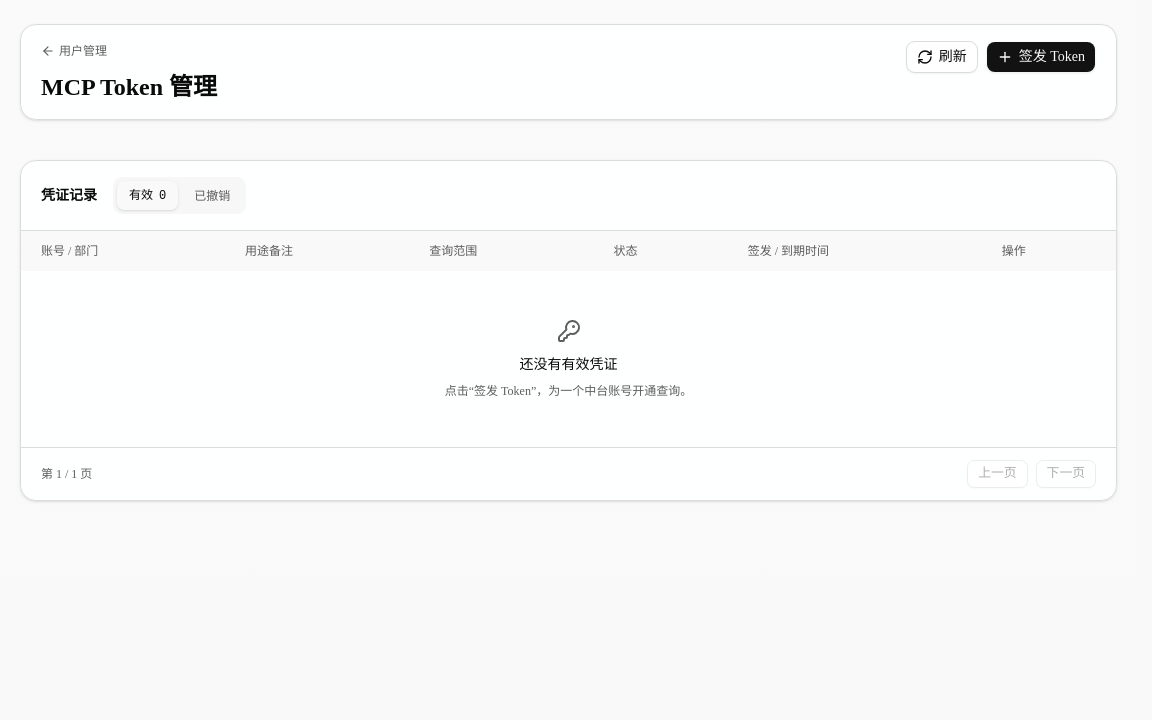
Scenario: MCP token administration › issues a permanent token only when the explicit option is selected
Click the button "签发 Token".
click(1041, 57)  # box [986,41,1096,73]
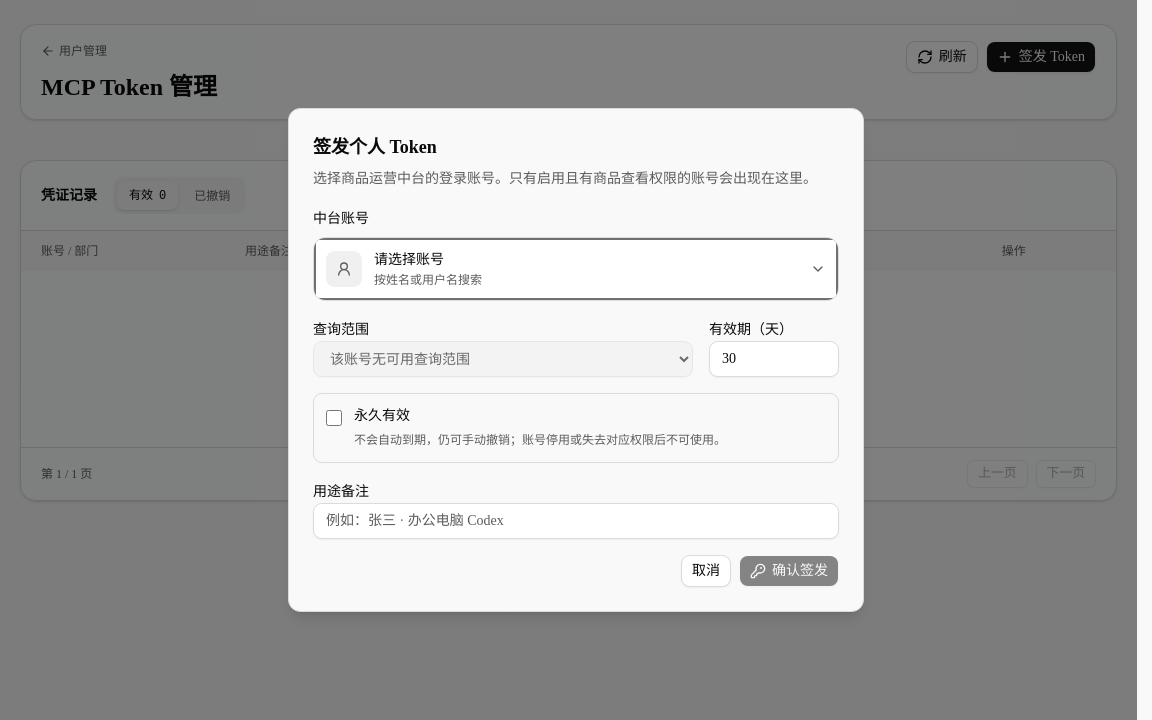
Check: the button named "中台账号" is enabled
Click the button named "中台账号".
click(344, 269)  # box [314,238,838,300]
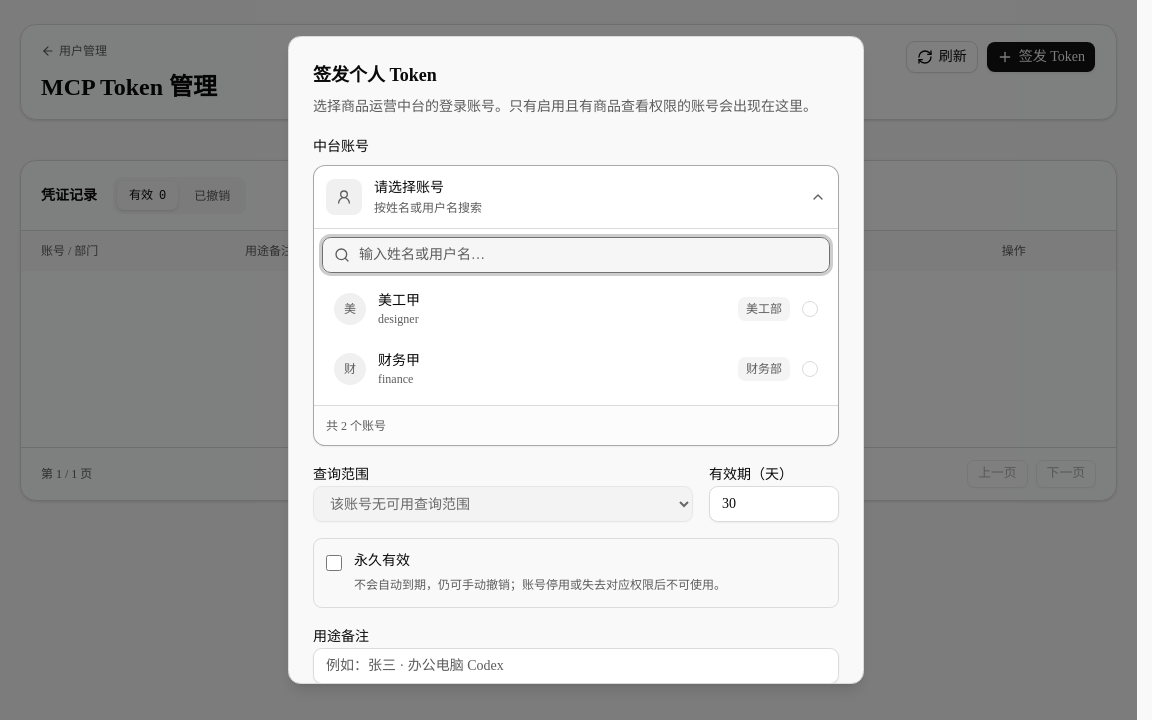
Click the radio button labelled "美 美工甲 designer 美工部".
click(350, 309)  # box [334,293,818,326]
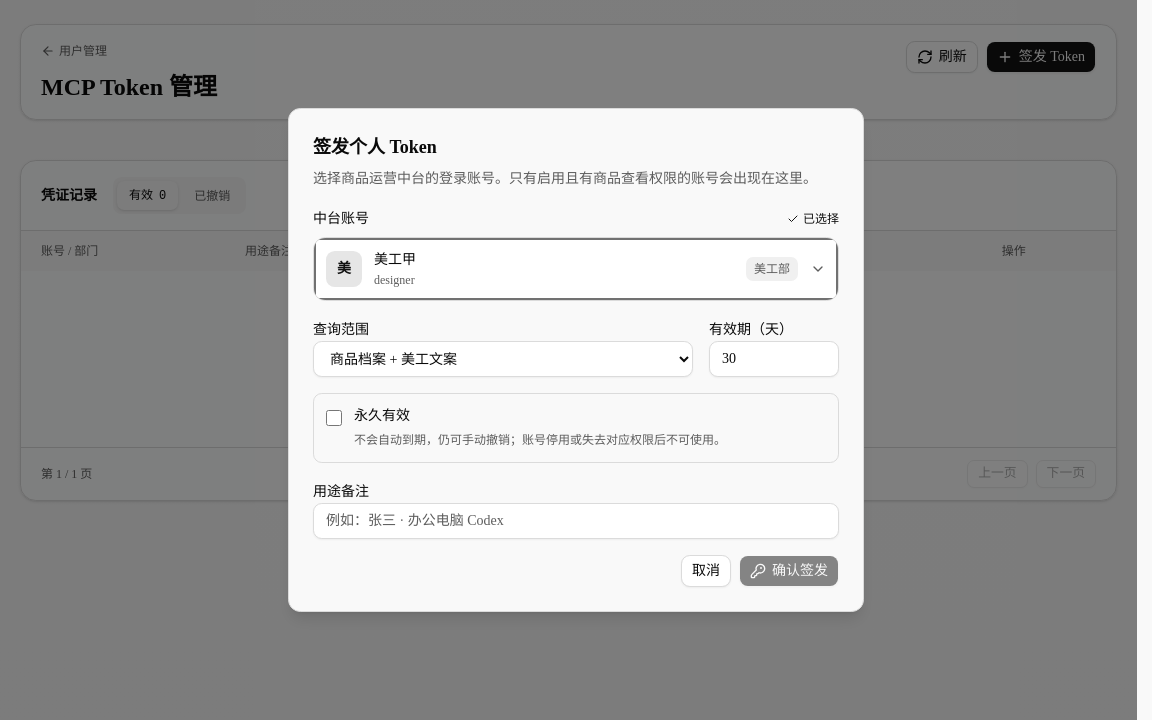
Click the checkbox labelled "永久有效 不会自动到期，仍可手动撤销；账号停用或失去对应权限后不可使用。".
click(334, 418)  # box [326,410,342,426]
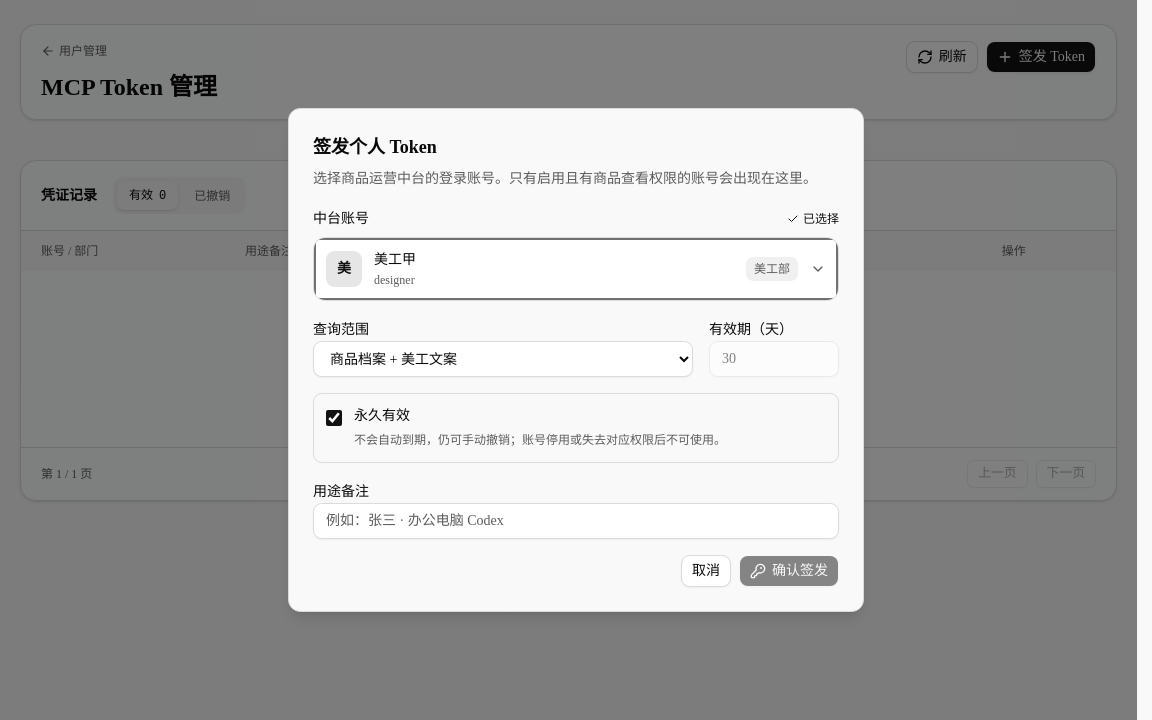
Check: the number field labelled "有效期（天）" is disabled, box [709,341,839,377]
Type "长期办公电脑" into the field labelled "用途备注".
click(576, 521); type("长期办公电脑")  # box [313,503,839,539]
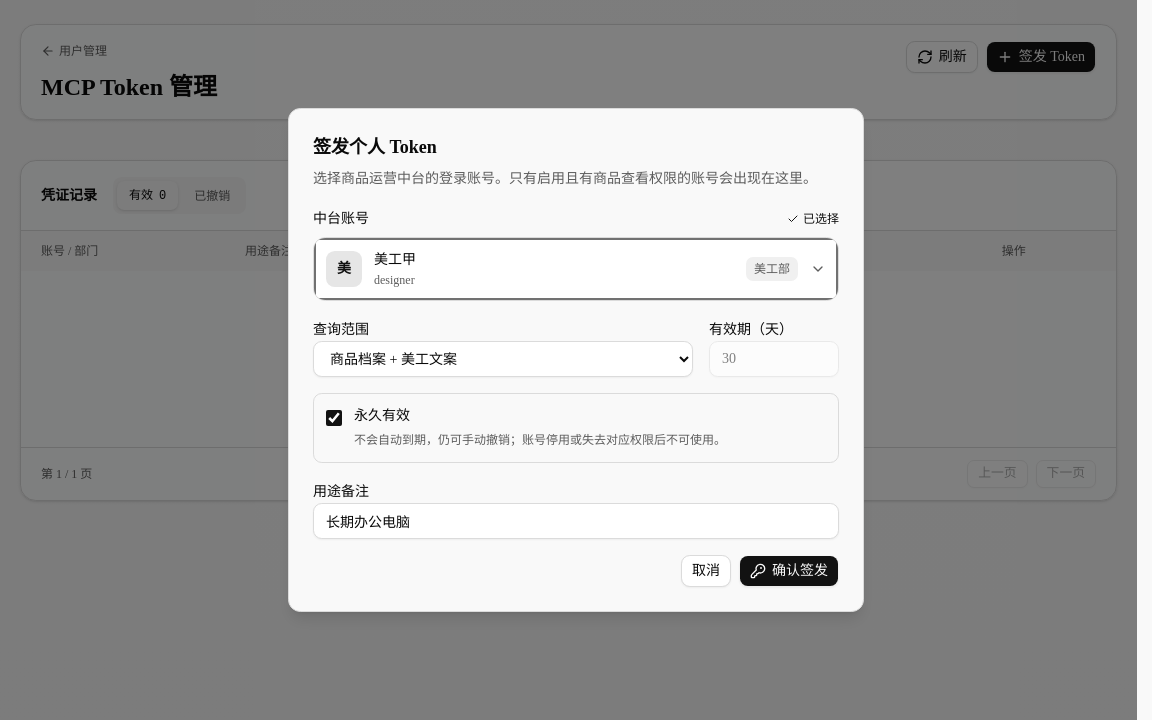
Click the button "确认签发".
click(789, 571)  # box [739,555,839,587]
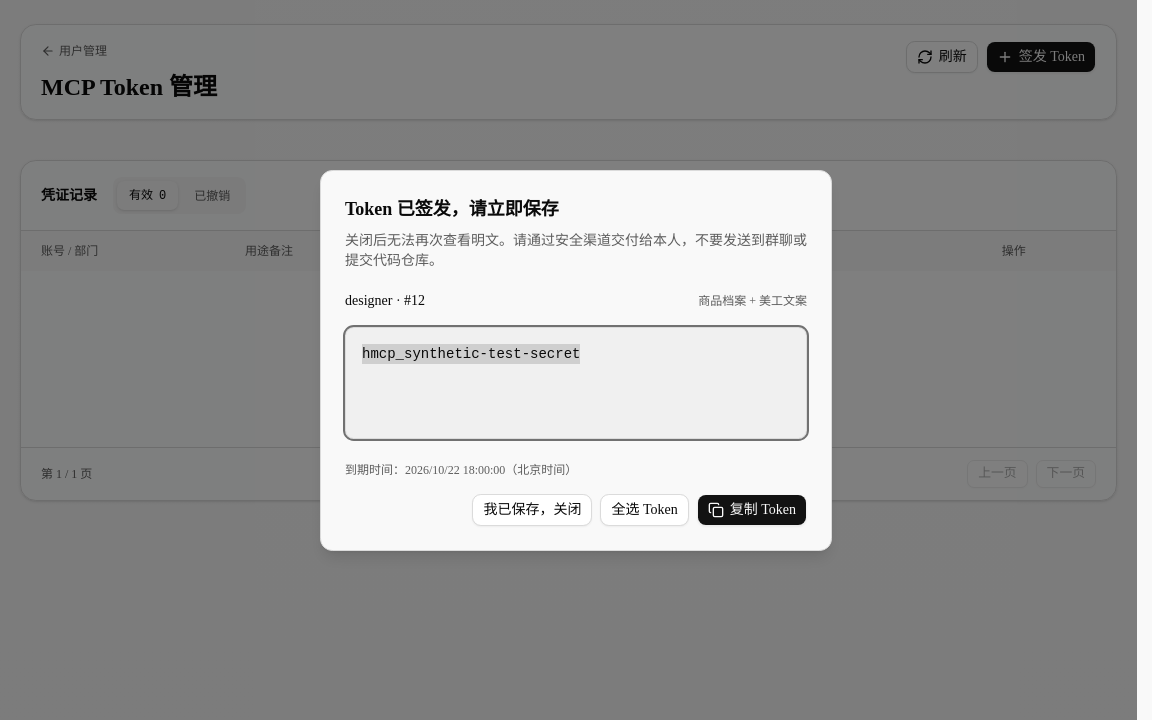
Check: the dialog "Token 已签发，请立即保存" is shown, box [320,170,832,550]
